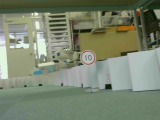speed_10: (80, 49, 97, 66)
